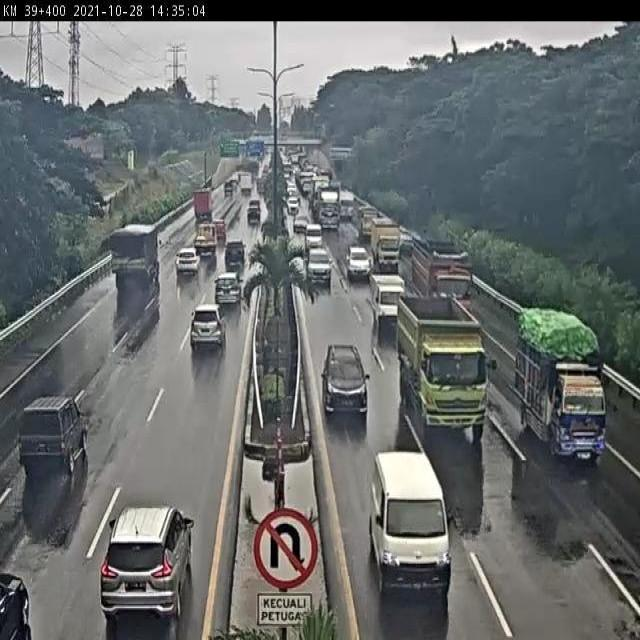big truck: (402, 291, 495, 440), (416, 241, 481, 316), (103, 219, 159, 292)
car: (365, 440, 456, 589), (102, 493, 199, 632), (16, 389, 94, 480), (318, 340, 380, 416), (185, 296, 222, 352), (366, 276, 400, 332), (208, 264, 245, 309), (303, 249, 336, 295), (348, 245, 373, 291), (173, 237, 190, 279), (396, 227, 416, 261), (226, 240, 240, 265)
small truck: (515, 304, 617, 475), (372, 219, 394, 269), (196, 219, 219, 264)
